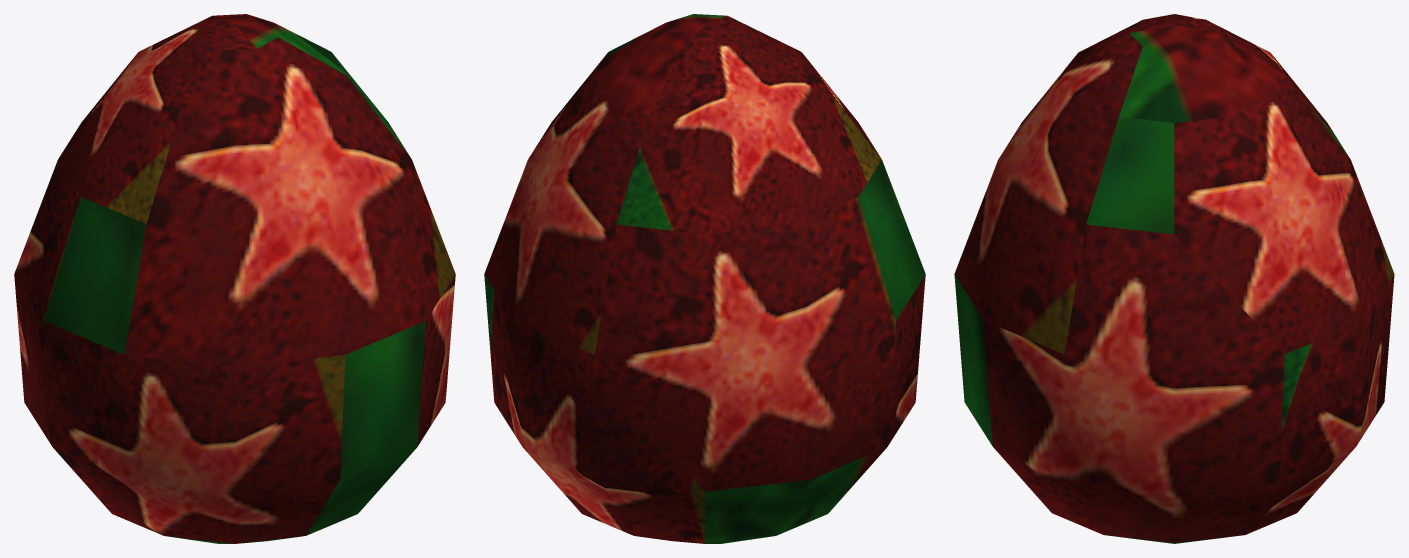
Rendered from EggRedStar.gltf.
The picture shows the model from 3 angles, left to right: view 1: azimuth 30°, elevation 25°; view 2: azimuth 150°, elevation 25°; view 3: azimuth 270°, elevation 25°; orthographic projection.
Parts seen in each view (by area): view 1: EggRedStarMesh; view 2: EggRedStarMesh; view 3: EggRedStarMesh.
Boxes of the visible parts, box(x1,y1,x2,y2) form: EggRedStarMesh: box(14, 14, 455, 543); EggRedStarMesh: box(484, 14, 925, 543); EggRedStarMesh: box(954, 14, 1394, 543).
Bounding box in the file's own units: 0.7984 × 1 × 0.7984.
Materials: 1 (1 with a texture image).
